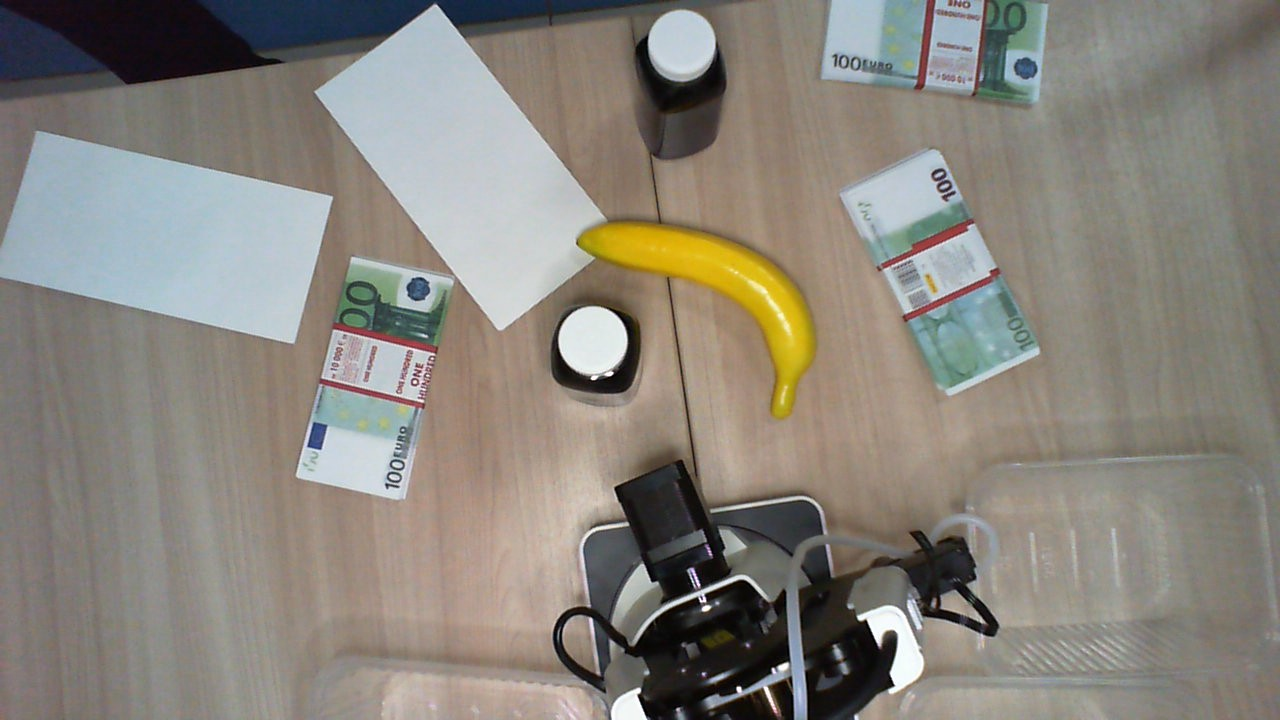banana: (575, 220, 823, 420)
bottle: (637, 8, 728, 115), (546, 305, 644, 400)
convert: (312, 5, 621, 332), (1, 128, 337, 345)
money: (842, 148, 1040, 397), (293, 257, 453, 500), (818, 1, 1051, 102)
